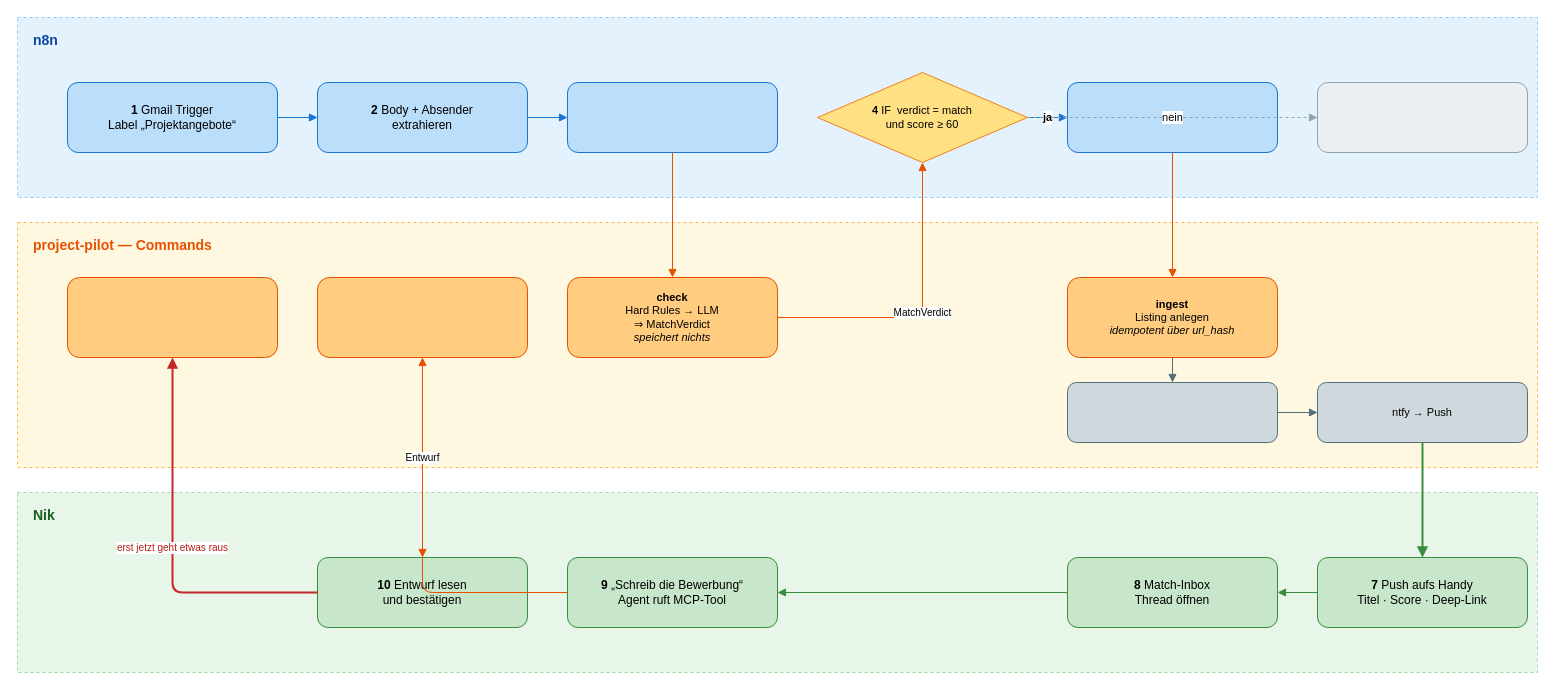
Image size: 1555x690. Some labels were removed from this diagram. Each missing label, with the centre of its shape:
"3 POST /v1/commands/check { text }" goes at point 672,117.
"5 POST /v1/commands/ingest { source: „email“, raw } + Idempotency-Key" goes at point 1172,117.
"6 kein Match → nur loggen, Ende" goes at point 1422,117.
"confirm_application → SMTP-Versand Status-Guard gegen Doppelversand" goes at point 172,317.
"PostgreSQL listings · evaluations" goes at point 1172,412.
"prepare_application Entwurf + Anhang kein Versand" goes at point 422,317.
